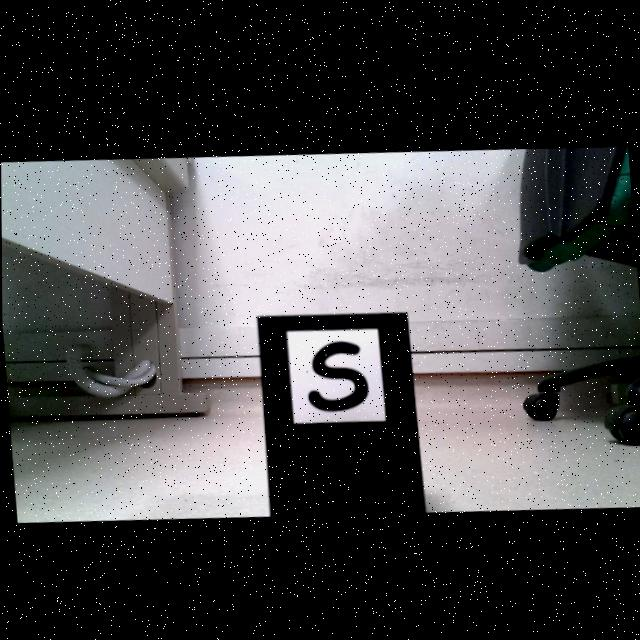S: (307, 338, 368, 407)
